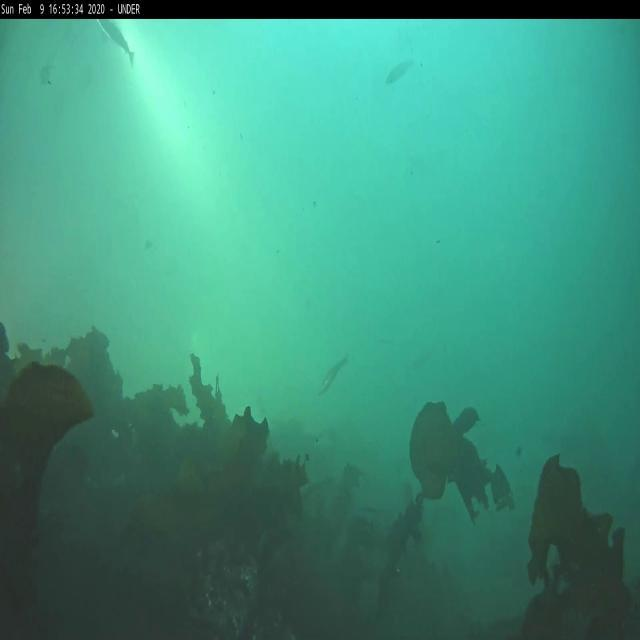fish: (96, 15, 135, 72), (318, 356, 346, 394), (386, 55, 412, 89)
